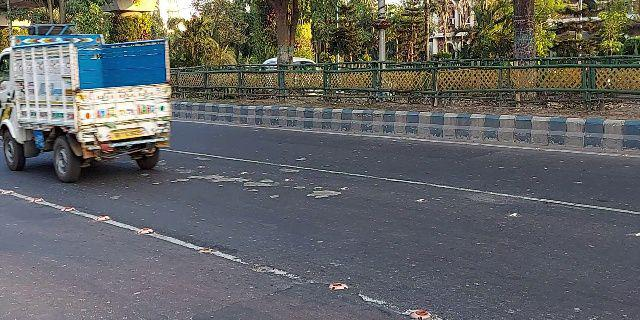Minitruck: (1, 29, 172, 185)
